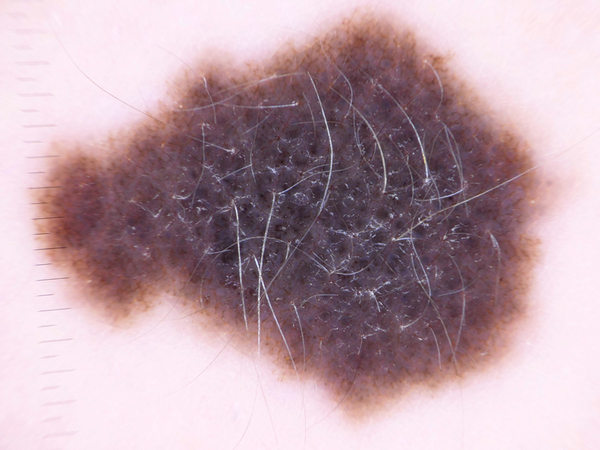Detected Lesion: (30, 14, 551, 420)
